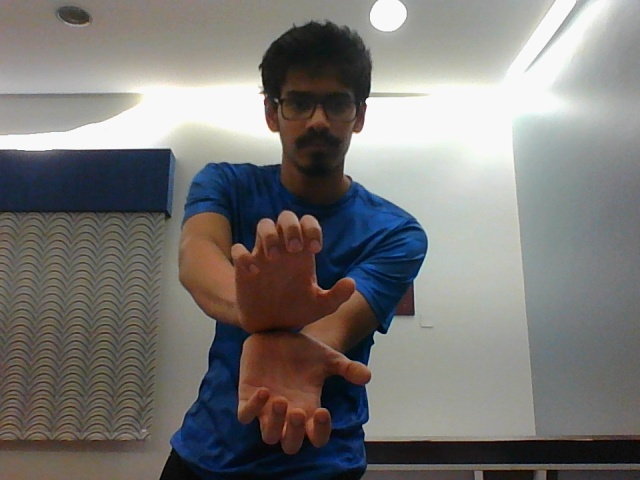blast: (215, 206, 379, 454)
